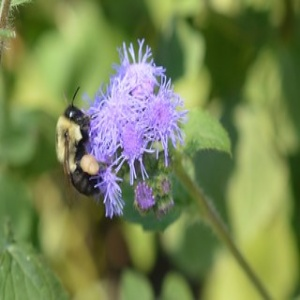bee: (53, 87, 101, 201)
